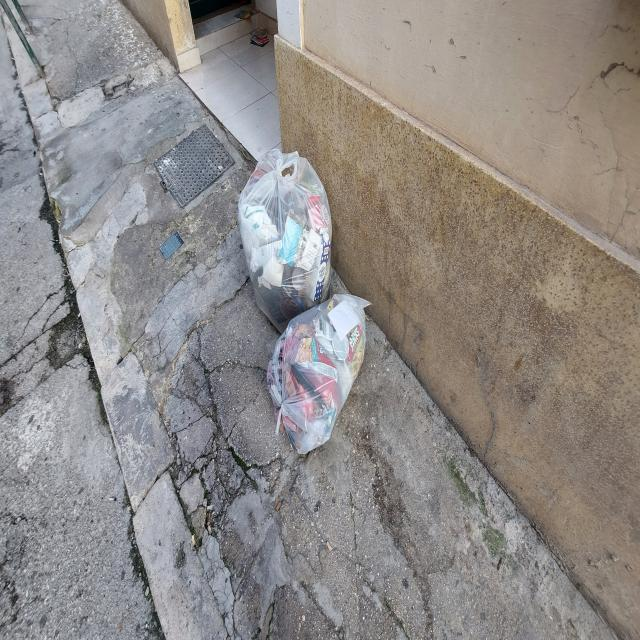Recycled Waste -Grey or Green Bag-: (237, 146, 335, 334), (265, 292, 374, 458)
